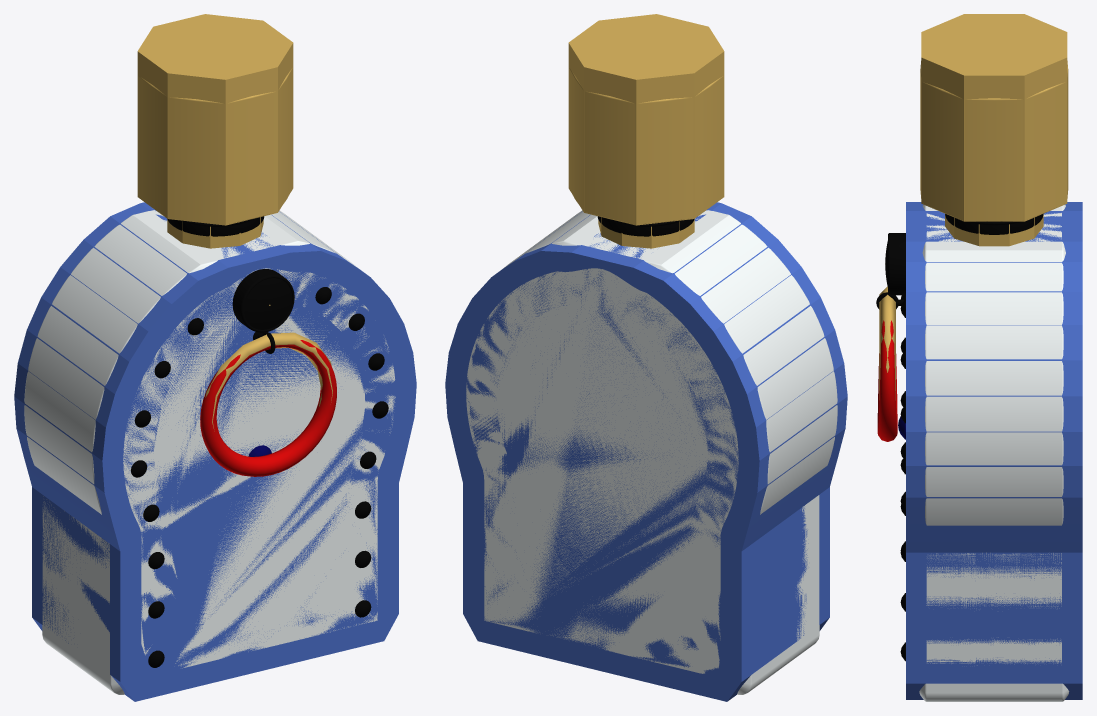
Rendered from perfume.glb.
The picture shows the model from 3 angles, left to right: view 1: azimuth 30°, elevation 25°; view 2: azimuth 150°, elevation 25°; view 3: azimuth 270°, elevation 25°; orthographic projection.
Parts seen in each view (by area): view 1: PB_ReflProxy, PB_Glass, PB_Cap, PB_Gold; view 2: PB_Glass, PB_ReflProxy, PB_Cap, PB_Gold; view 3: PB_ReflProxy, PB_Glass, PB_Cap, PB_Gold.
Part boxes in pixels (x1=…): PB_ReflProxy: x1=14, y1=14, x2=416, y2=701; PB_Glass: x1=24, y1=210, x2=395, y2=694; PB_Cap: x1=138, y1=27, x2=293, y2=224; PB_Gold: x1=130, y1=216, x2=388, y2=667; PB_Glass: x1=466, y1=210, x2=837, y2=694; PB_ReflProxy: x1=445, y1=14, x2=847, y2=701; PB_Cap: x1=568, y1=27, x2=723, y2=224; PB_Gold: x1=597, y1=216, x2=694, y2=236; PB_ReflProxy: x1=879, y1=14, x2=1082, y2=699; PB_Glass: x1=919, y1=204, x2=1069, y2=701; PB_Cap: x1=920, y1=26, x2=1068, y2=221; PB_Gold: x1=876, y1=214, x2=1043, y2=661.
Bounding box in the file's own units: 0.07 × 0.126 × 0.0397.
